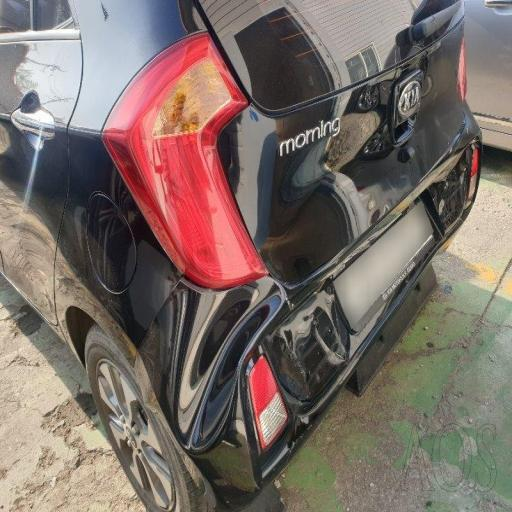dent: (380, 15, 509, 254), (156, 231, 284, 433)
scratch: (372, 117, 466, 302)
